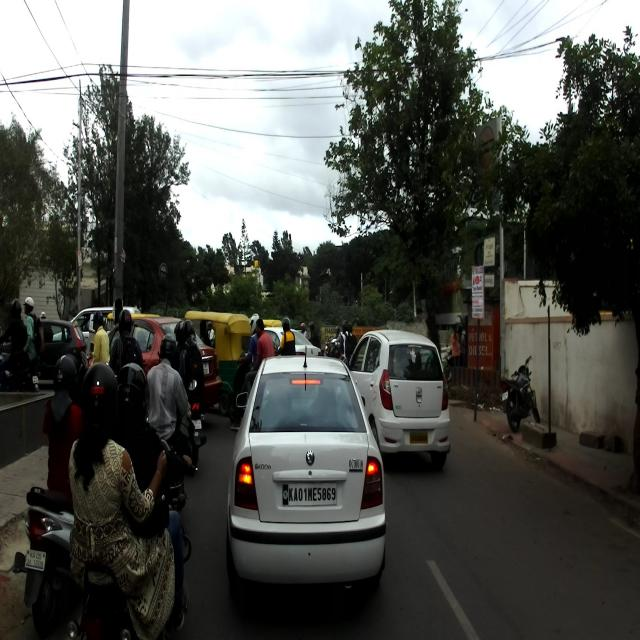autorickshaw: (182, 310, 252, 419)
car: (227, 346, 387, 612), (343, 328, 451, 478), (87, 314, 222, 409)
motorcycle: (66, 440, 197, 639), (169, 380, 207, 476), (498, 354, 540, 434)
scooter: (12, 483, 78, 636)
